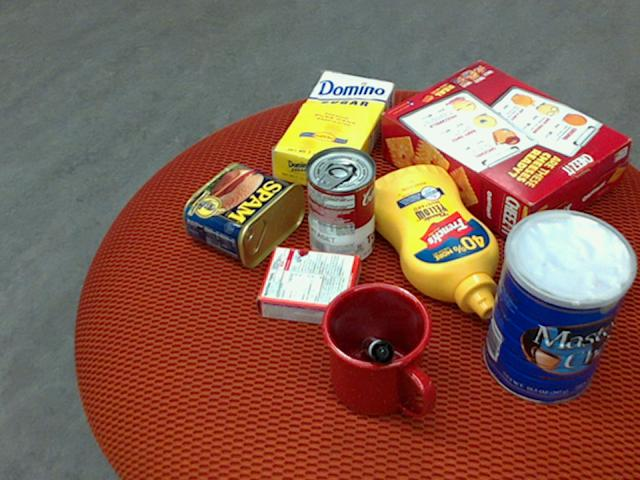cracker_box: (380, 59, 629, 247)
gelatin_box: (253, 246, 357, 330)
large_marker: (361, 337, 393, 364)
master_chef_can: (481, 211, 636, 405)
mug: (318, 283, 431, 418)
mustard_bottle: (362, 164, 497, 320)
potted_meat_can: (182, 161, 304, 268)
sugar_box: (271, 70, 393, 192)
tomato_soup_can: (304, 144, 375, 264)
tuna_fish_can: (537, 225, 631, 309)
